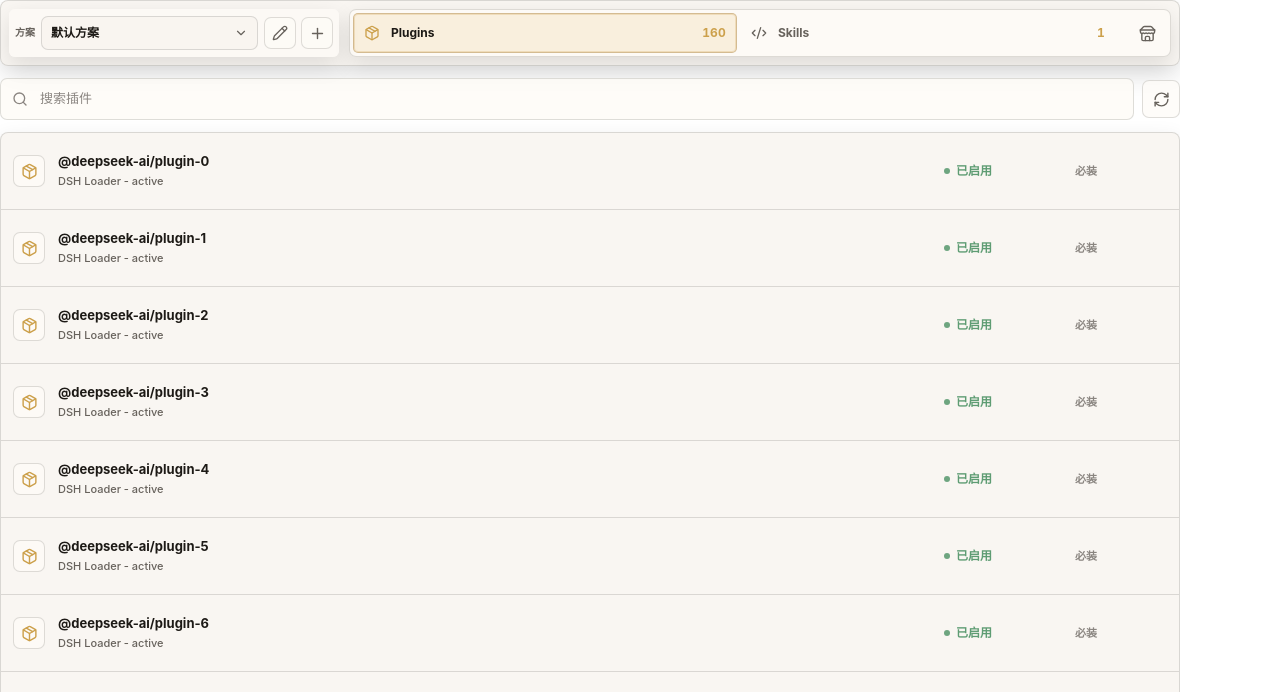
Test: DSH resource schemes page › keeps the original scheme layout and exposes the full runtime inventory
The width and height of the screenshot is (1280, 692).
Expected: the text "@deepseek-ai/plugin-0" is shown, [58,153,209,170]
Expected: the text "方案" is shown, [15,26,35,40]
Type "plugin-159" into the field with placeholder "搜索插件". click: (581, 99)
box: [40,79,1122,119]
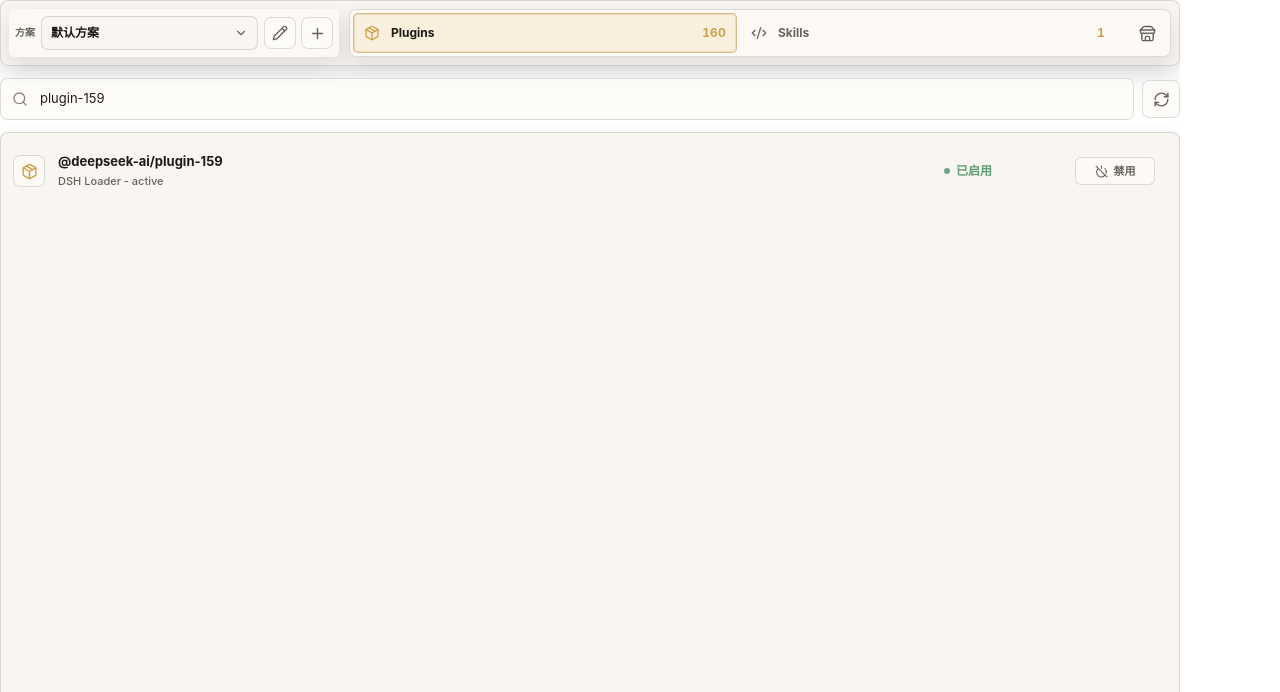
Now the text "@deepseek-ai/plugin-159" is shown, box [58,153,223,170]
Click the button "Skills 1". click: (794, 32)
box: [740,13,1124,53]
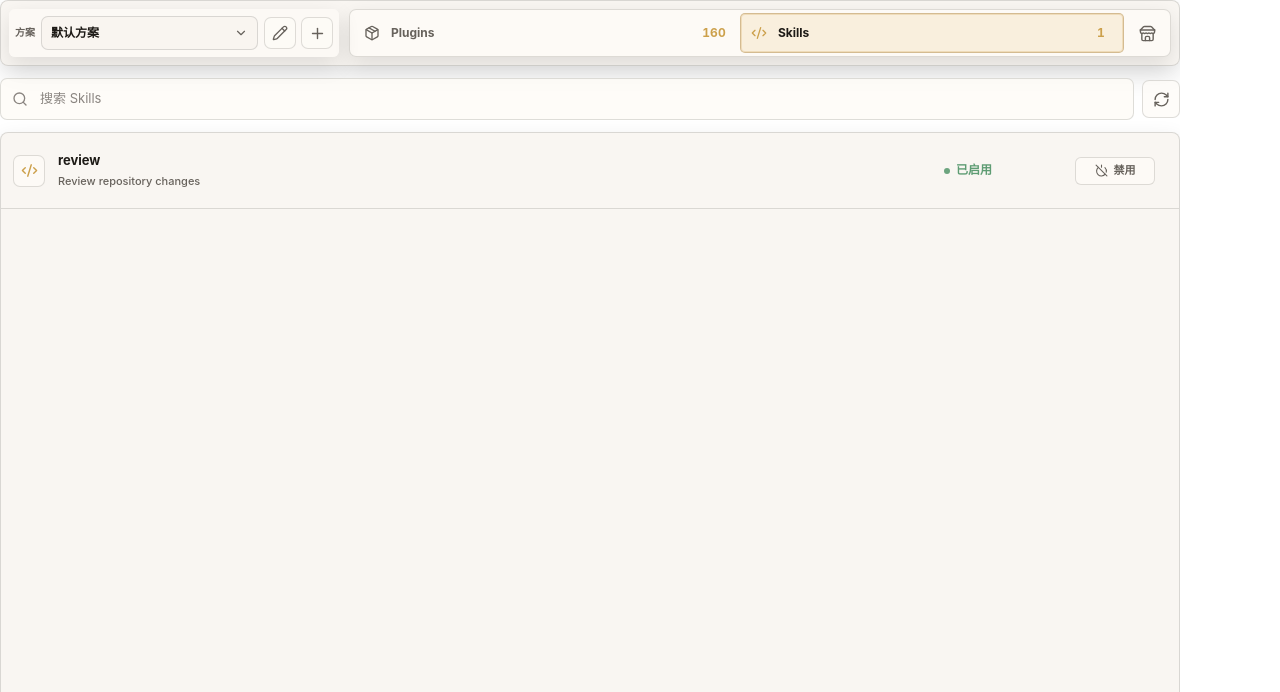
Now the text "review" is shown, box [58,152,100,170]
